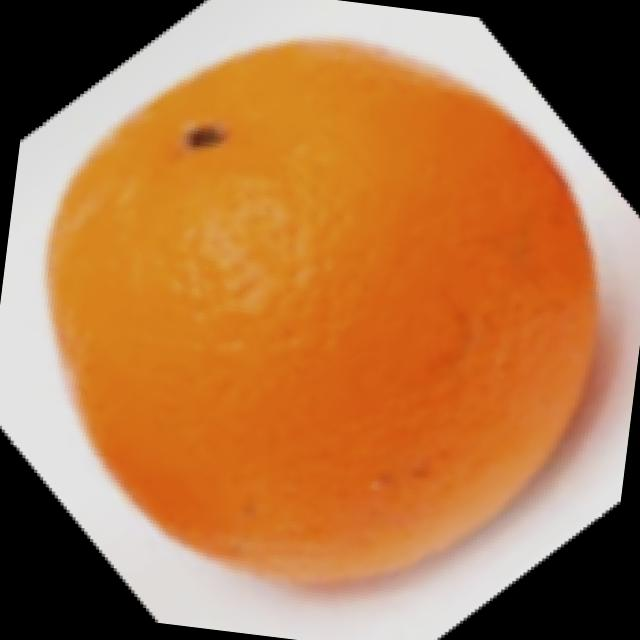orange: (40, 0, 633, 594)
